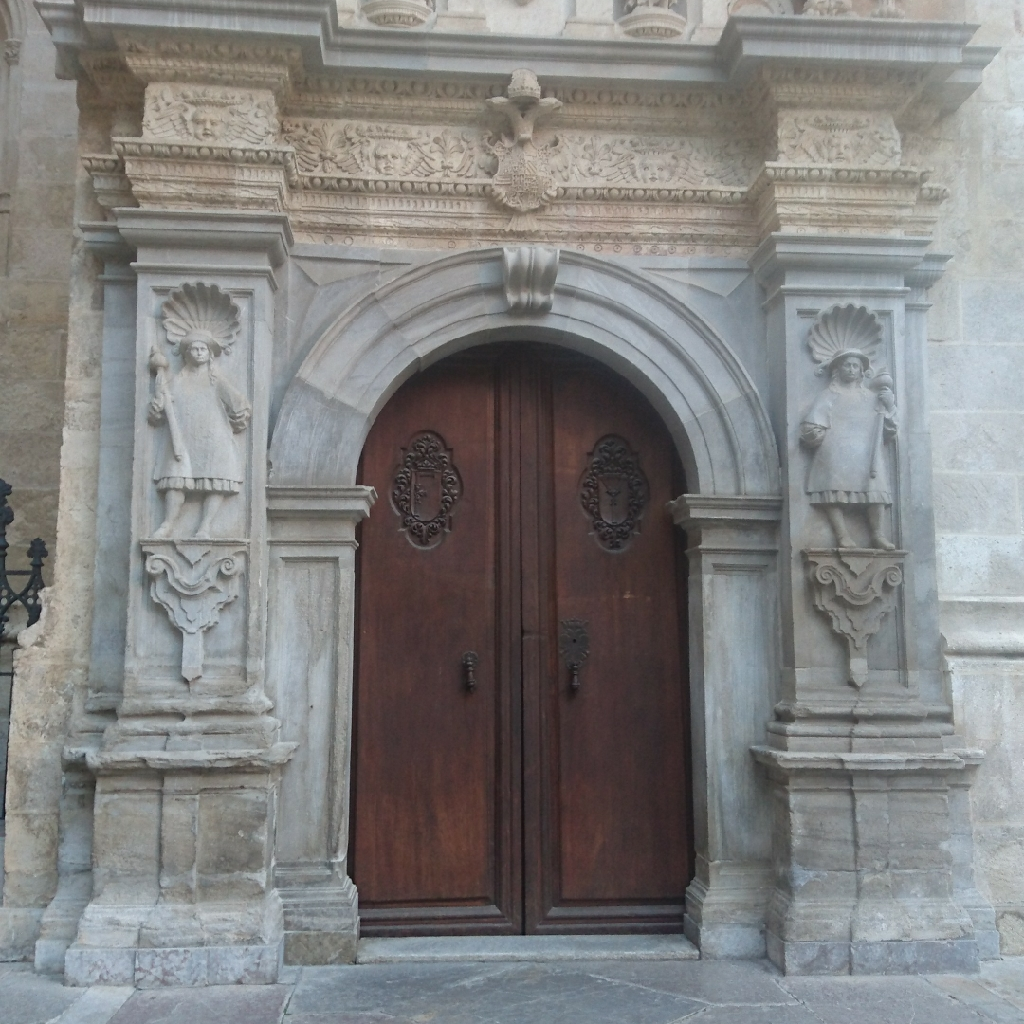arco-medio-punto: (328, 304, 723, 550)
